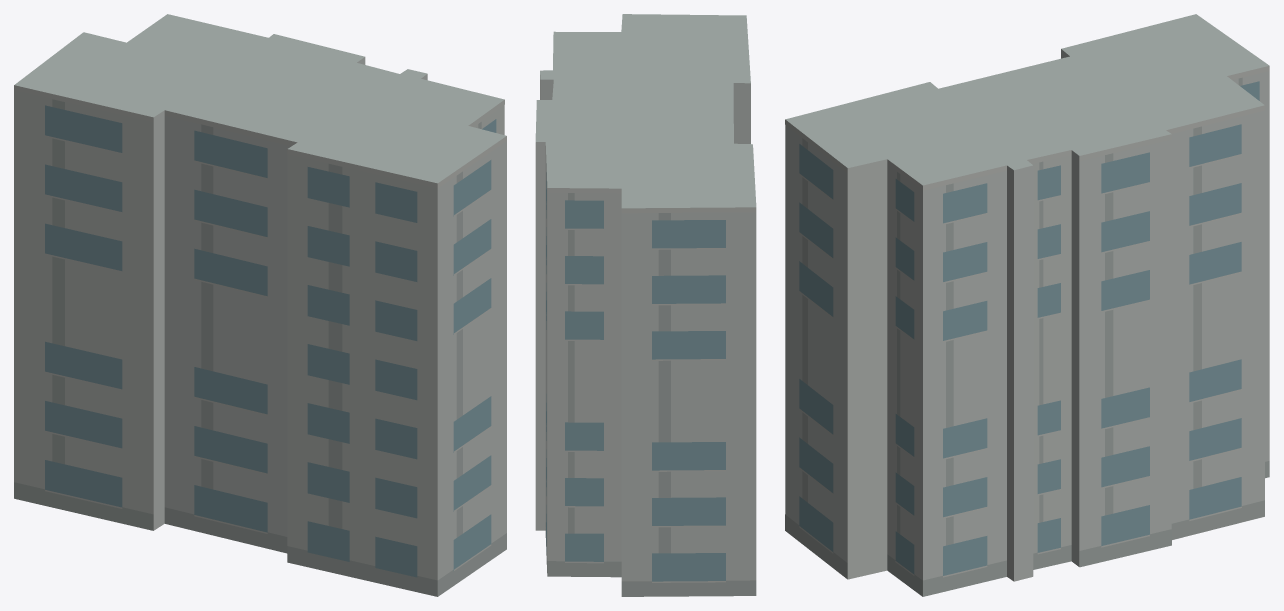
File: survey-upis-32826908.glb
3 views of the same model, side by side, from view 1: azimuth 30°, elevation 25°; view 2: azimuth 150°, elevation 25°; view 3: azimuth 270°, elevation 25° (orthographic). The views are drawn at different scales.
Visible parts, largest first — view 1: survey-upis-32826908.tmp; view 2: survey-upis-32826908.tmp; view 3: survey-upis-32826908.tmp.
Boxes of the visible parts, x1=… form: survey-upis-32826908.tmp: x1=14, y1=14, x2=506, y2=596; survey-upis-32826908.tmp: x1=535, y1=14, x2=756, y2=596; survey-upis-32826908.tmp: x1=785, y1=14, x2=1269, y2=596.
Bounding box in the file's own units: 17.09 × 19.1 × 20.4.
